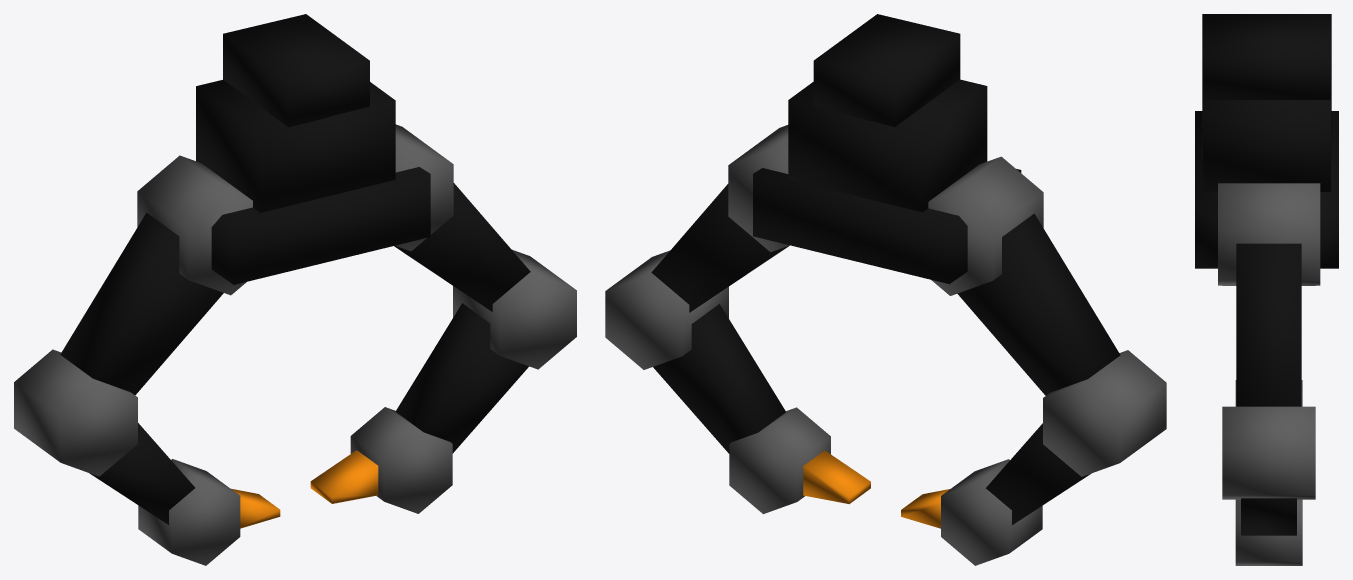
File: Robot_Carrier.fbx
3 renders of one model, left to right at view 1: azimuth 30°, elevation 25°; view 2: azimuth 150°, elevation 25°; view 3: azimuth 270°, elevation 25°, orthographic.
Visible parts, largest first — view 1: Cube.034; view 2: Cube.034; view 3: Cube.034.
Boxes of the visible parts, x1,y1,x2,y2 form: Cube.034: (14,14,576,565); Cube.034: (605,14,1166,565); Cube.034: (1195,14,1338,565).
Bounding box in the file's own units: 204 × 182 × 49.44.
